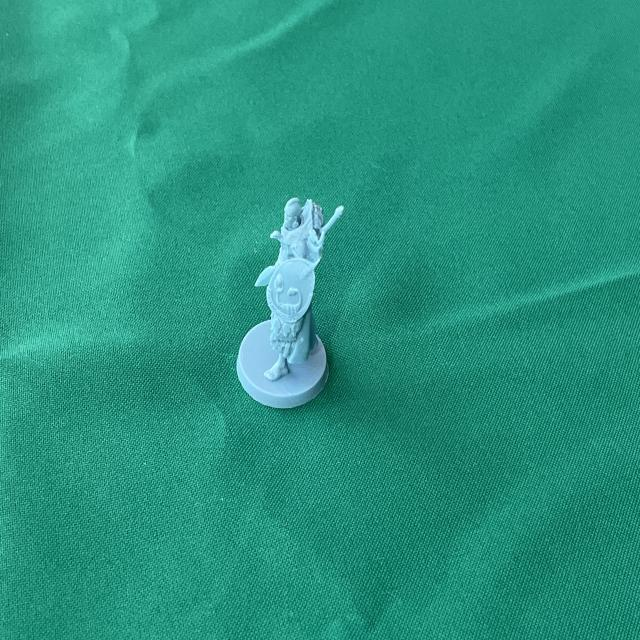isis_follower: (233, 187, 345, 411)
